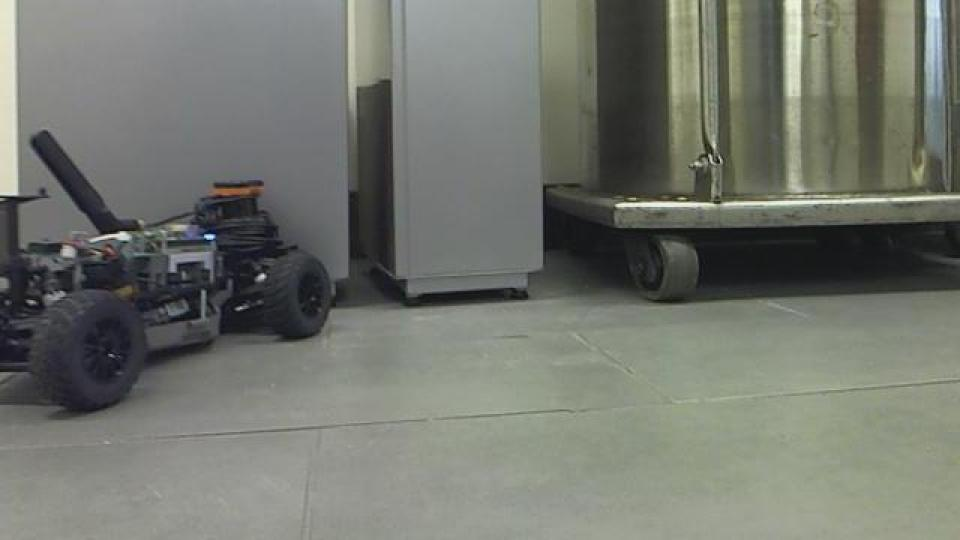car: (2, 126, 336, 414)
